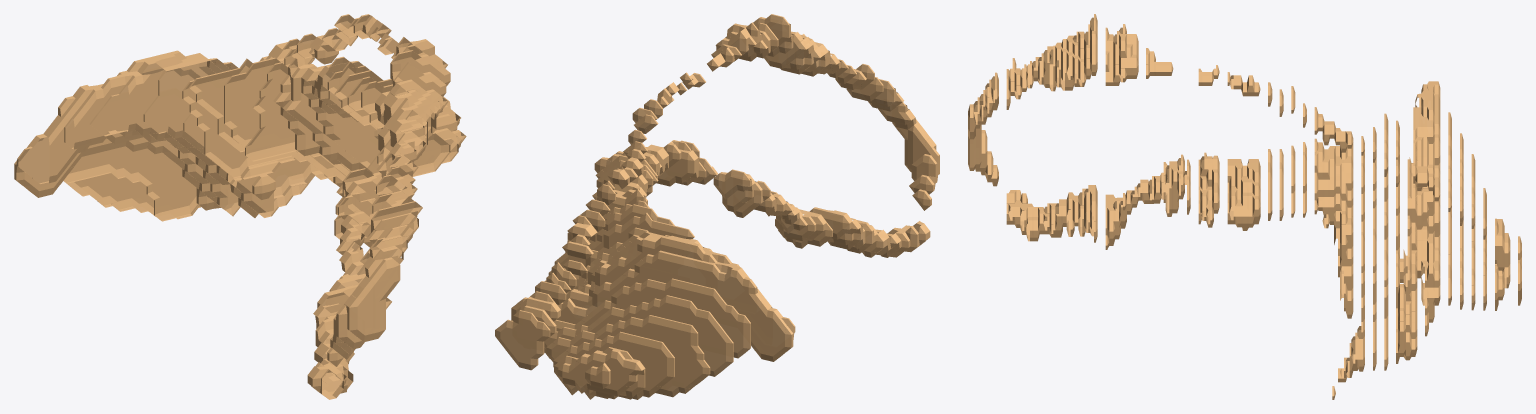
Rendered from SVV_URYDR.gltf.
3 renders of one model, left to right at view 1: azimuth 30°, elevation 25°; view 2: azimuth 150°, elevation 25°; view 3: azimuth 270°, elevation 25°, orthographic. The views are drawn at different scales.
Visible parts, largest first — view 1: URYDR; view 2: URYDR; view 3: URYDR.
Part boxes in pixels (box(x1,y1,x2,y2)): URYDR: box(14, 14, 466, 399); URYDR: box(495, 14, 939, 399); URYDR: box(968, 14, 1521, 399).
Size of the model in its own units: 25104 by 24585 by 36628.
